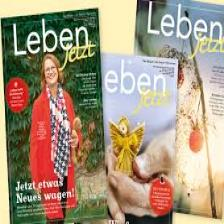paper: (131, 0, 223, 222), (0, 12, 101, 209), (89, 54, 182, 224)
